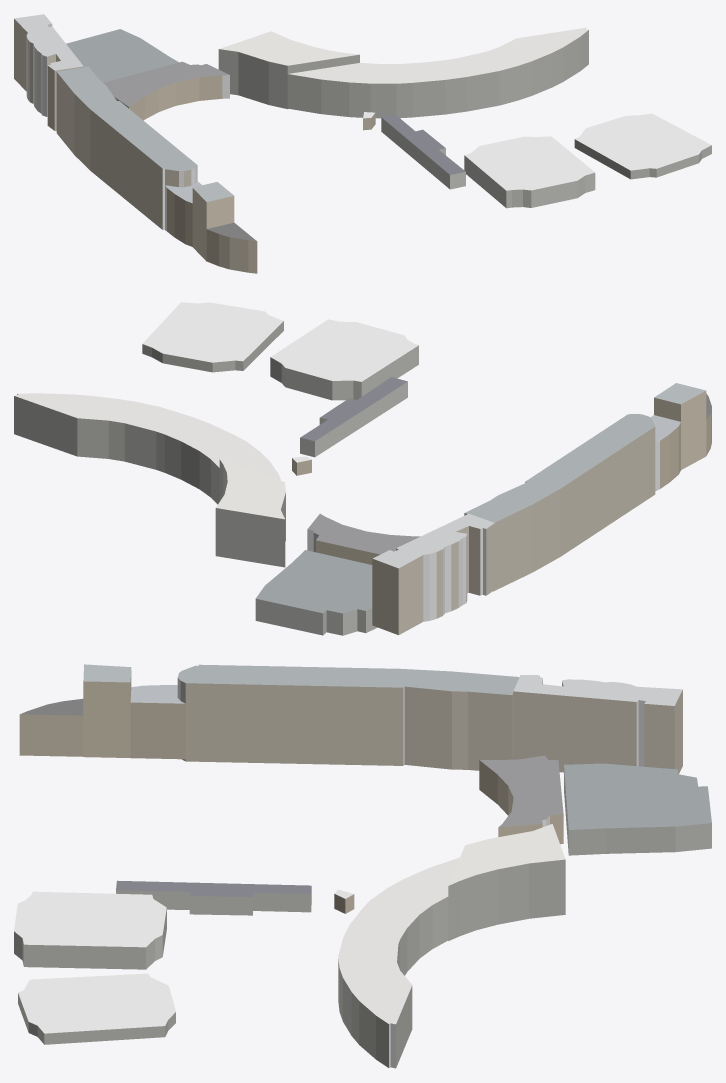
3 views of the same model, one above another, from view 1: azimuth 30°, elevation 25°; view 2: azimuth 150°, elevation 25°; view 3: azimuth 270°, elevation 25° (orthographic). The views are drawn at different scales.
Visible parts, largest first — view 1: tuile; view 2: tuile; view 3: tuile.
Boxes of the visible parts, x1=… form: tuile: x1=14, y1=14, x2=711, y2=273; tuile: x1=14, y1=302, x2=711, y2=635; tuile: x1=14, y1=664, x2=711, y2=1068.
Size of the model in its own units: 216 by 30.43 by 204.
